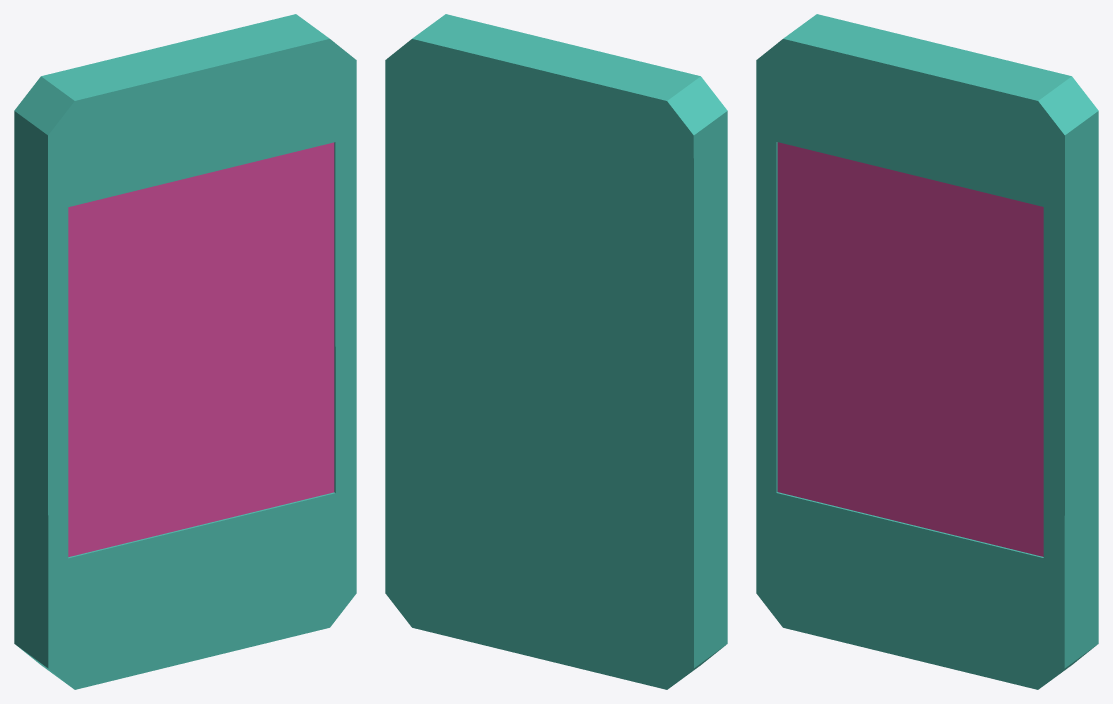
File: SM_iPhone.FBX
3 renders of one model, left to right at view 1: azimuth 30°, elevation 25°; view 2: azimuth 150°, elevation 25°; view 3: azimuth 330°, elevation 25°, orthographic.
Parts seen in each view (by area): view 1: SM_Phone; view 2: SM_Phone; view 3: SM_Phone.
Part boxes in pixels (x1=…): SM_Phone: x1=14, y1=14, x2=356, y2=689; SM_Phone: x1=385, y1=14, x2=727, y2=689; SM_Phone: x1=756, y1=14, x2=1098, y2=689.
Bounding box in the file's own units: 11.54 × 21.05 × 2.2.
